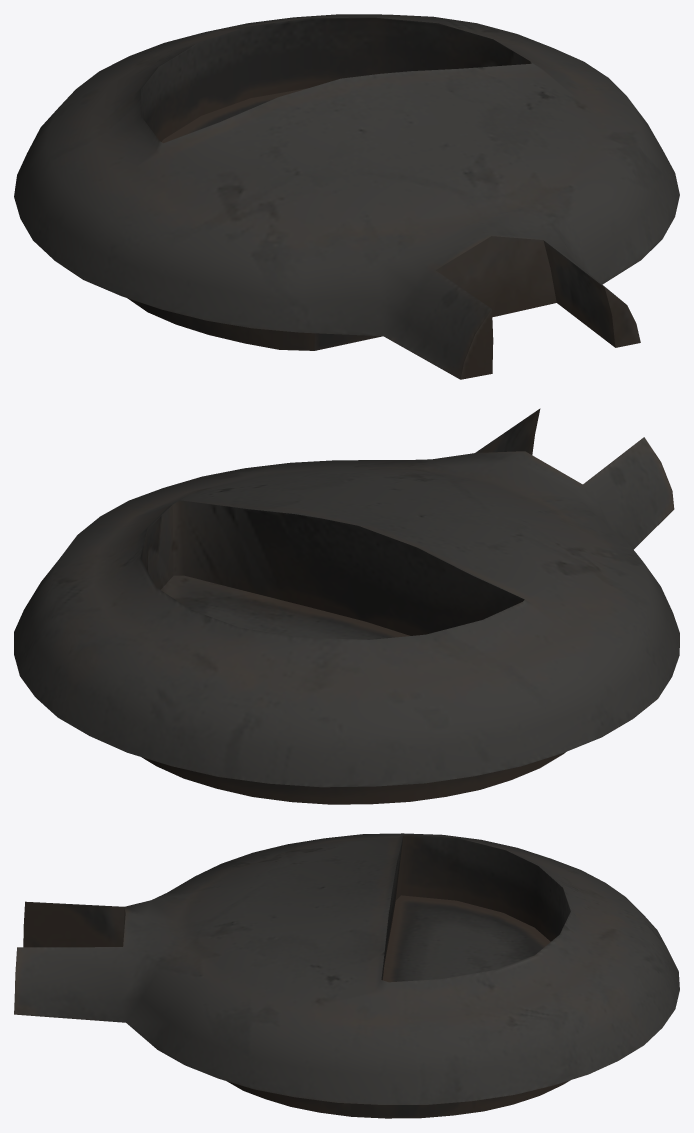
The model's file is SM_Teapod_A1_Cap.fbx.
The picture shows the model from 3 angles, top to bottom: view 1: azimuth 30°, elevation 25°; view 2: azimuth 150°, elevation 25°; view 3: azimuth 270°, elevation 25°; orthographic projection. The views are drawn at different scales.
Parts seen in each view (by area): view 1: SM_Teapod_A1_Cap; view 2: SM_Teapod_A1_Cap; view 3: SM_Teapod_A1_Cap.
Part boxes in pixels (box(x1,y1,x2,y2)): SM_Teapod_A1_Cap: box(14, 14, 679, 379); SM_Teapod_A1_Cap: box(14, 408, 679, 804); SM_Teapod_A1_Cap: box(14, 833, 679, 1118).
Size of the model in its own units: 9.32 by 11.06 by 2.67.
Materials: 1 (1 with a texture image).
